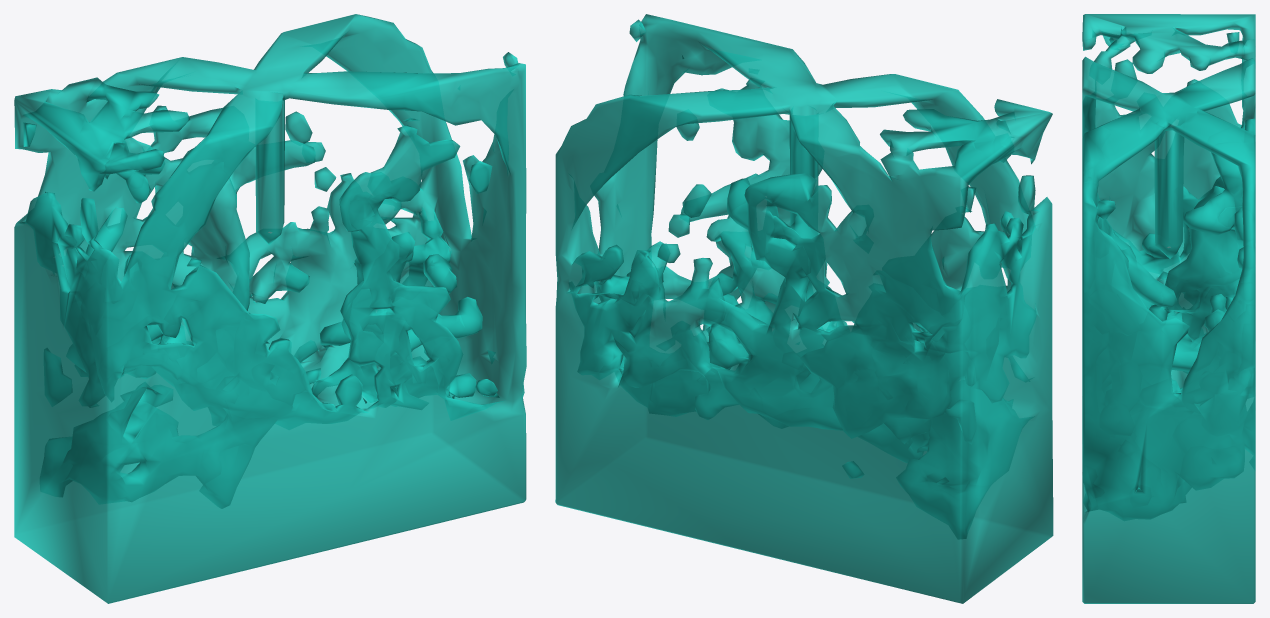
3 views of the same model, side by side, from view 1: azimuth 30°, elevation 25°; view 2: azimuth 150°, elevation 25°; view 3: azimuth 270°, elevation 25° (orthographic). The views are drawn at different scales.
Visible parts, largest first — view 1: Liquid_Domain; view 2: Liquid_Domain; view 3: Liquid_Domain.
Part boxes in pixels (box(x1,y1,x2,y2)): Liquid_Domain: box(14, 14, 526, 603); Liquid_Domain: box(555, 14, 1053, 603); Liquid_Domain: box(1082, 14, 1255, 603).
Size of the model in its own units: 1965 by 1965 by 766.
